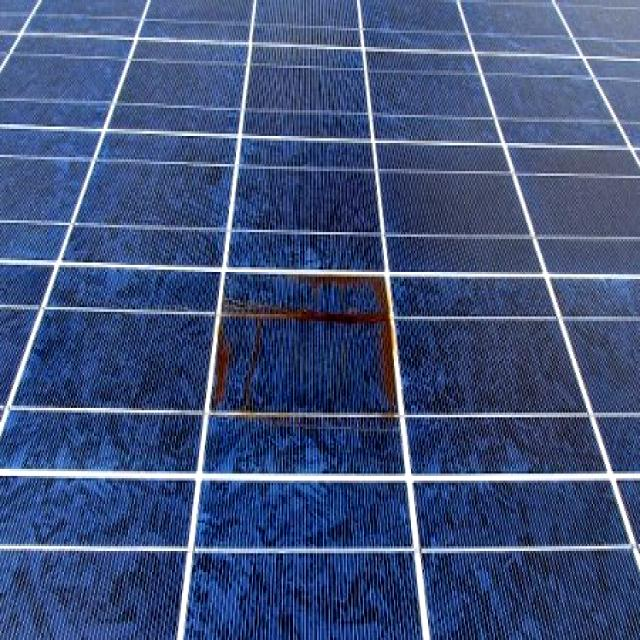shadow: (204, 252, 412, 436)
